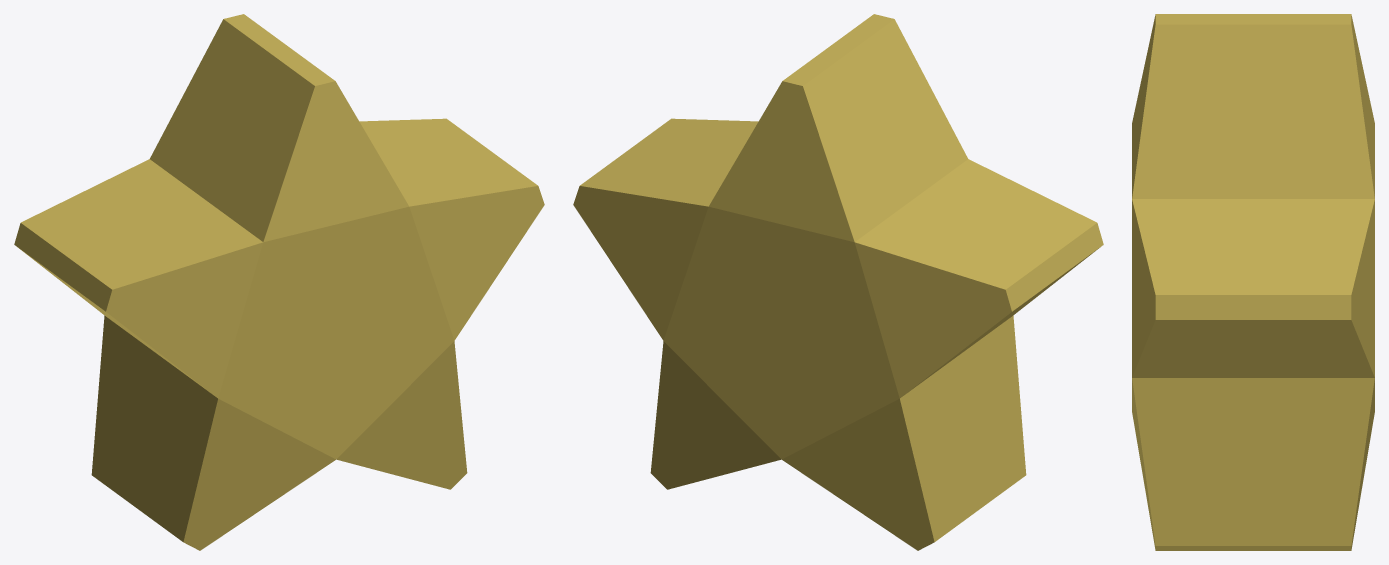
File: Star.fbx
3 renders of one model, left to right at view 1: azimuth 30°, elevation 25°; view 2: azimuth 150°, elevation 25°; view 3: azimuth 270°, elevation 25°, orthographic. The views are drawn at different scales.
Parts seen in each view (by area): view 1: Star; view 2: Star; view 3: Star.
Boxes of the visible parts, x1,y1,x2,y2 form: Star: [14, 14, 544, 550]; Star: [573, 14, 1103, 550]; Star: [1132, 14, 1374, 550].
Bounding box in the file's own units: 44.81 × 42.61 × 20.11.
